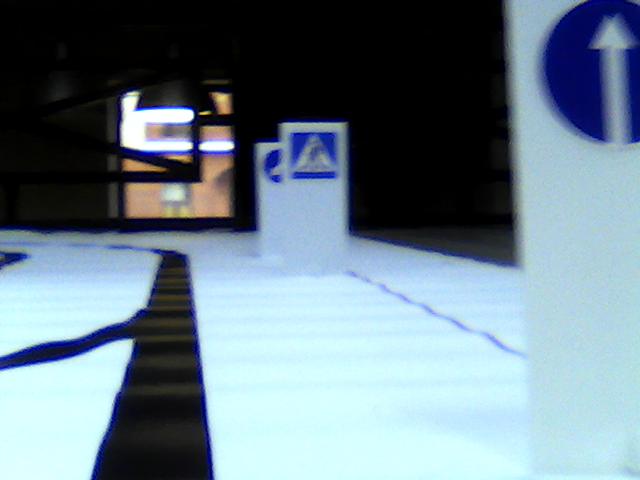forw: (544, 2, 640, 164)
pesh: (290, 131, 338, 177)
